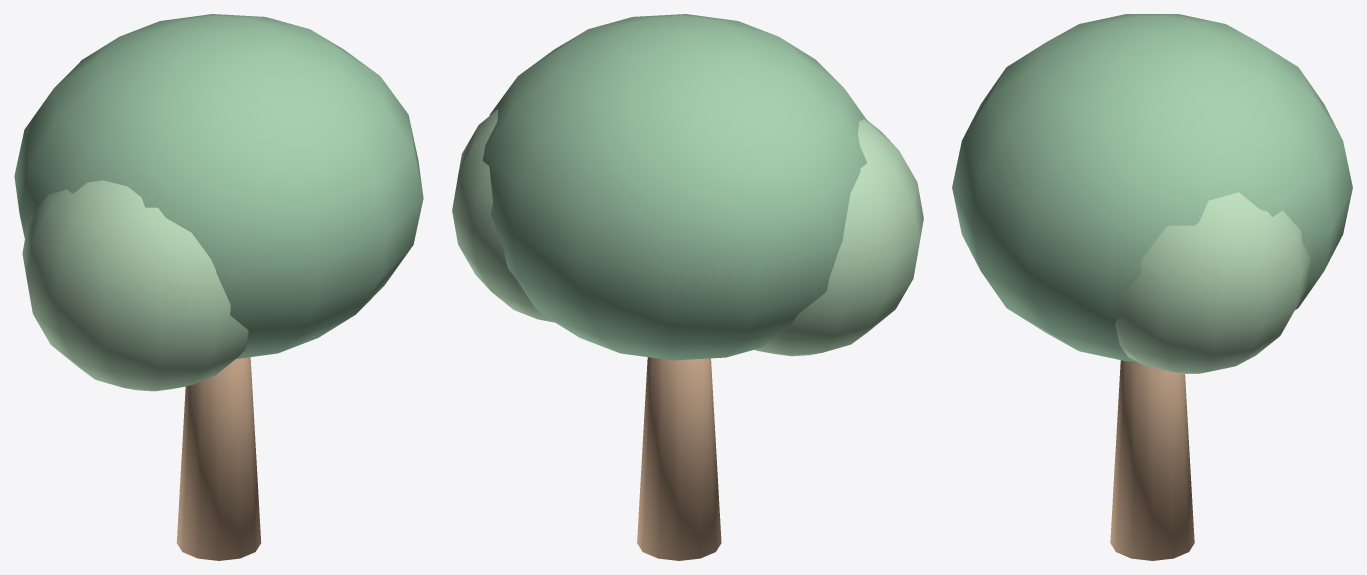
File: OrchardFruitTree.fbx
The picture shows the model from 3 angles, left to right: view 1: azimuth 30°, elevation 25°; view 2: azimuth 150°, elevation 25°; view 3: azimuth 270°, elevation 25°; orthographic projection.
Parts seen in each view (by area): view 1: OrchardFruitTree; view 2: OrchardFruitTree; view 3: OrchardFruitTree.
Boxes of the visible parts, left/top/right/bottom form: OrchardFruitTree: left=14, top=14, right=423, bottom=560; OrchardFruitTree: left=452, top=14, right=923, bottom=560; OrchardFruitTree: left=952, top=14, right=1352, bottom=560.
Size of the model in its own units: 2.36 by 2.92 by 2.09.
